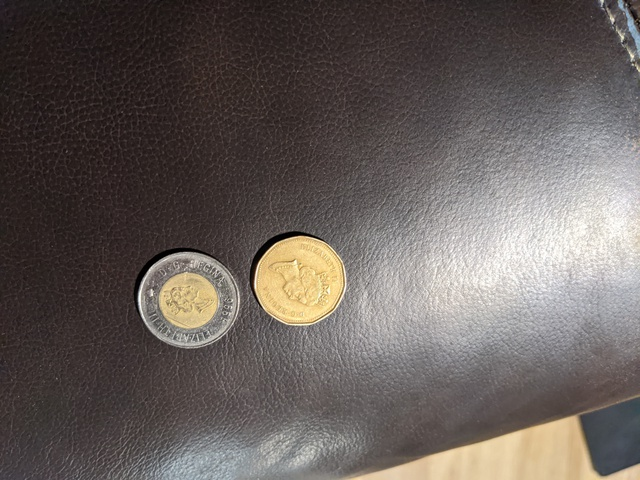loonie: (255, 224, 347, 323)
twonie: (132, 251, 243, 354)
